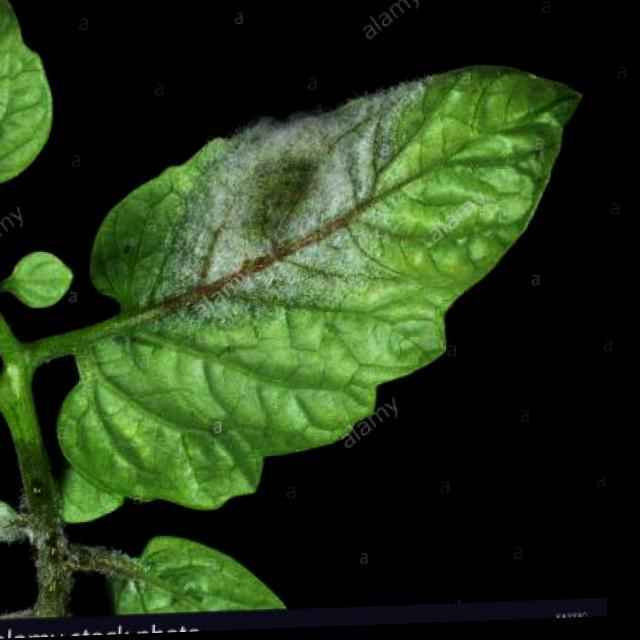Tomato mosaic virus leaf: (35, 55, 598, 523)
